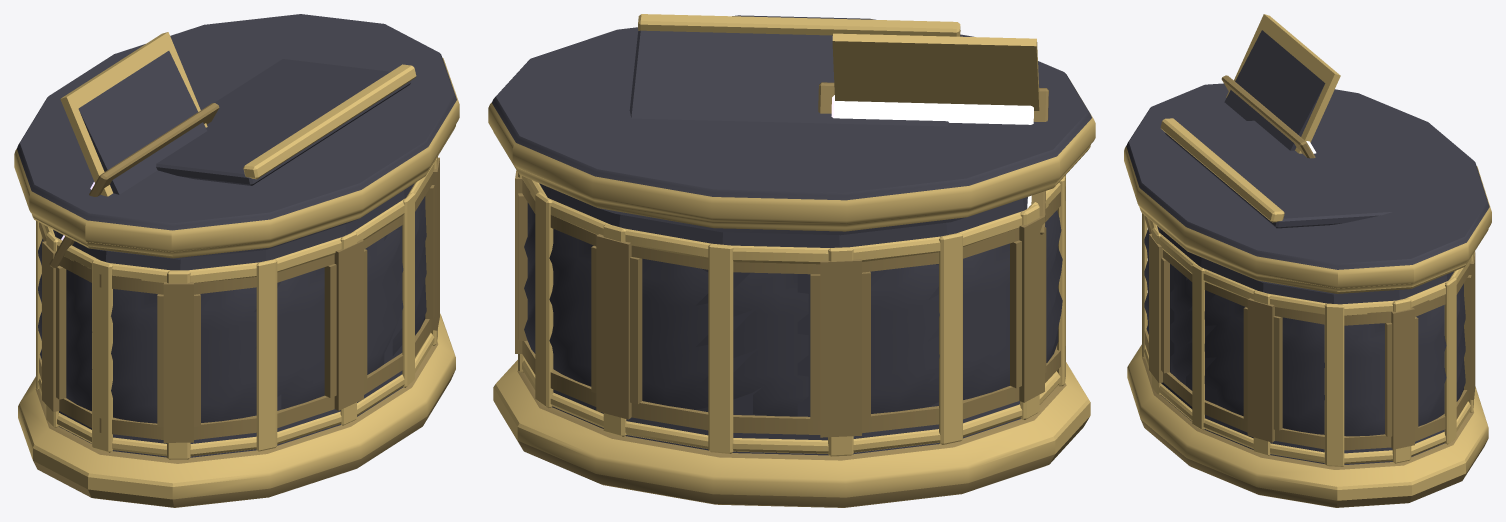
File: SM_Podium.fbx
The picture shows the model from 3 angles, left to right: view 1: azimuth 30°, elevation 25°; view 2: azimuth 150°, elevation 25°; view 3: azimuth 270°, elevation 25°; orthographic projection. The views are drawn at different scales.
Visible parts, largest first — view 1: Podium_Panels, Podium_Top, Podium_Trim, Podium_Desk, Podium_Monitor, Podium_Body, Podium_Riser; view 2: Podium_Panels, Podium_Top, Podium_Trim, Podium_Desk, Podium_Monitor, Podium_Body, Podium_Riser; view 3: Podium_Top, Podium_Panels, Podium_Trim, Podium_Desk, Podium_Monitor, Podium_Body, Podium_Riser.
Part boxes in pixels (left/top/right/bottom): Podium_Panels: left=38, top=157, right=439, bottom=442; Podium_Top: left=14, top=14, right=459, bottom=259; Podium_Trim: left=18, top=156, right=455, bottom=507; Podium_Desk: left=156, top=59, right=416, bottom=185; Podium_Monitor: left=60, top=32, right=207, bottom=196; Podium_Body: left=53, top=183, right=414, bottom=457; Podium_Riser: left=49, top=103, right=219, bottom=268; Podium_Panels: left=515, top=170, right=1065, bottom=437; Podium_Top: left=488, top=15, right=1095, bottom=235; Podium_Trim: left=493, top=173, right=1090, bottom=507; Podium_Desk: left=629, top=14, right=960, bottom=126; Podium_Monitor: left=832, top=33, right=1039, bottom=110; Podium_Body: left=539, top=183, right=1027, bottom=455; Podium_Riser: left=818, top=82, right=1048, bottom=234; Podium_Top: left=1124, top=83, right=1491, bottom=294; Podium_Panels: left=1144, top=216, right=1475, bottom=450; Podium_Trim: left=1127, top=213, right=1488, bottom=507; Podium_Desk: left=1160, top=118, right=1392, bottom=228; Podium_Monitor: left=1224, top=14, right=1340, bottom=153; Podium_Body: left=1148, top=226, right=1453, bottom=464; Podium_Riser: left=1221, top=75, right=1316, bottom=158.
Size of the model in its own units: 180 by 143 by 148.
